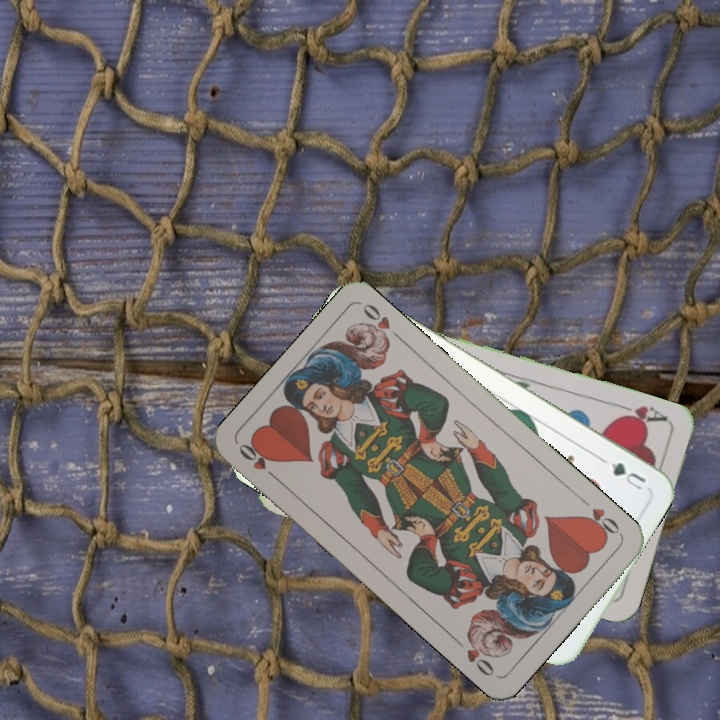GU: (607, 458, 649, 493)
HA: (612, 400, 670, 429)
HO: (575, 493, 624, 541), (234, 438, 283, 485)
